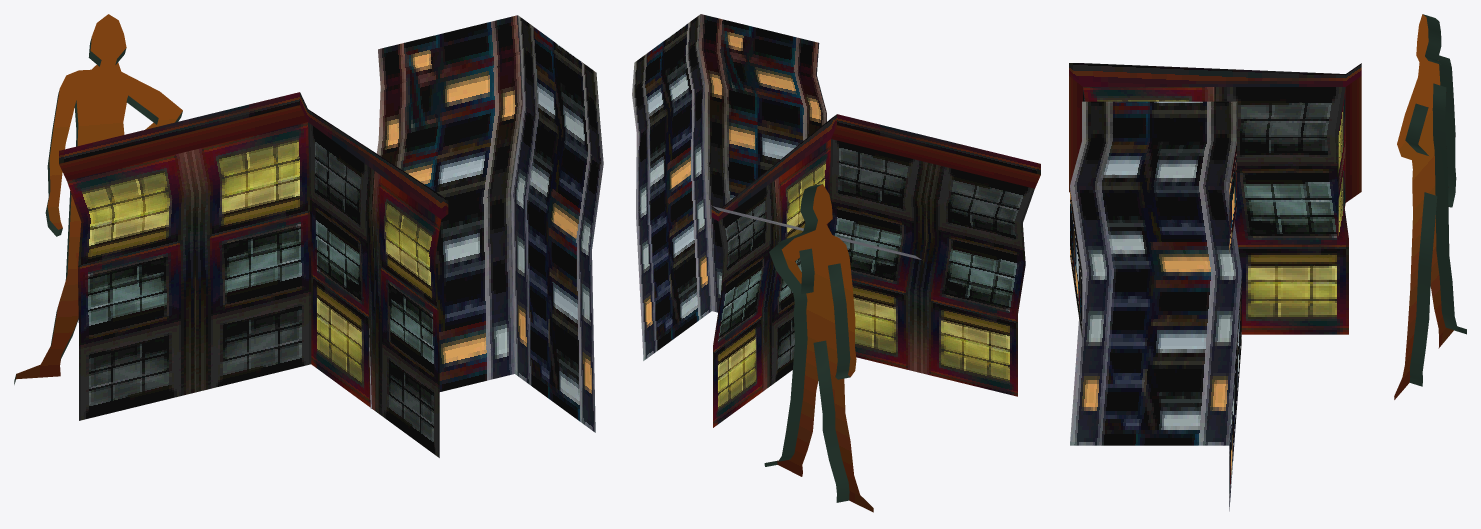
Rendered from ps2_save-icons_simstheurbz.glb.
3 views of the same model, side by side, from view 1: azimuth 30°, elevation 25°; view 2: azimuth 150°, elevation 25°; view 3: azimuth 270°, elevation 25° (orthographic). The views are drawn at different scales.
Visible parts, largest first — view 1: saveicon.ico; view 2: saveicon.ico; view 3: saveicon.ico.
Part boxes in pixels (x1,y1,x2,y2): saveicon.ico: (14,14,603,457); saveicon.ico: (632,14,1040,512); saveicon.ico: (1069,14,1466,511).
Bounding box in the file's own units: 4.28 × 3.68 × 3.75.
Materials: 1 (1 with a texture image).
